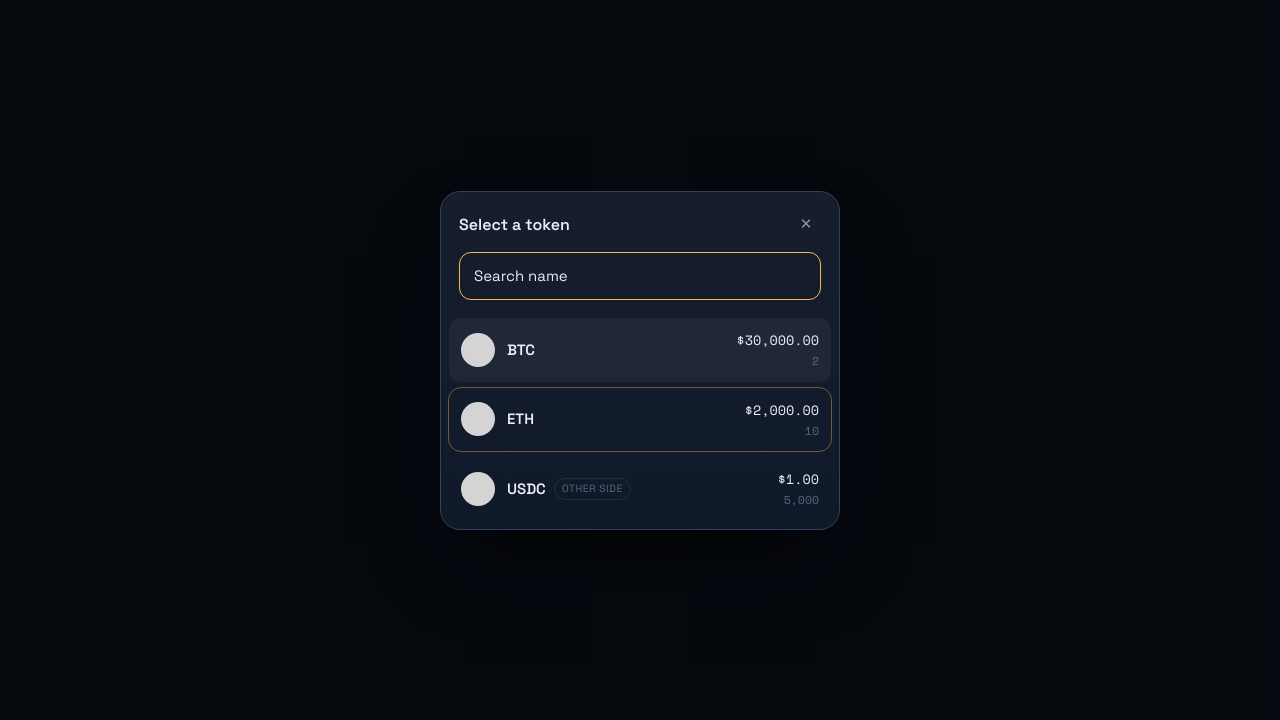
Test: TokenSelectDialog › shows an empty state when nothing matches
Step 1. Type "zzz" into the field with placeholder "Search name" → (640,276), box [459,252,821,300]
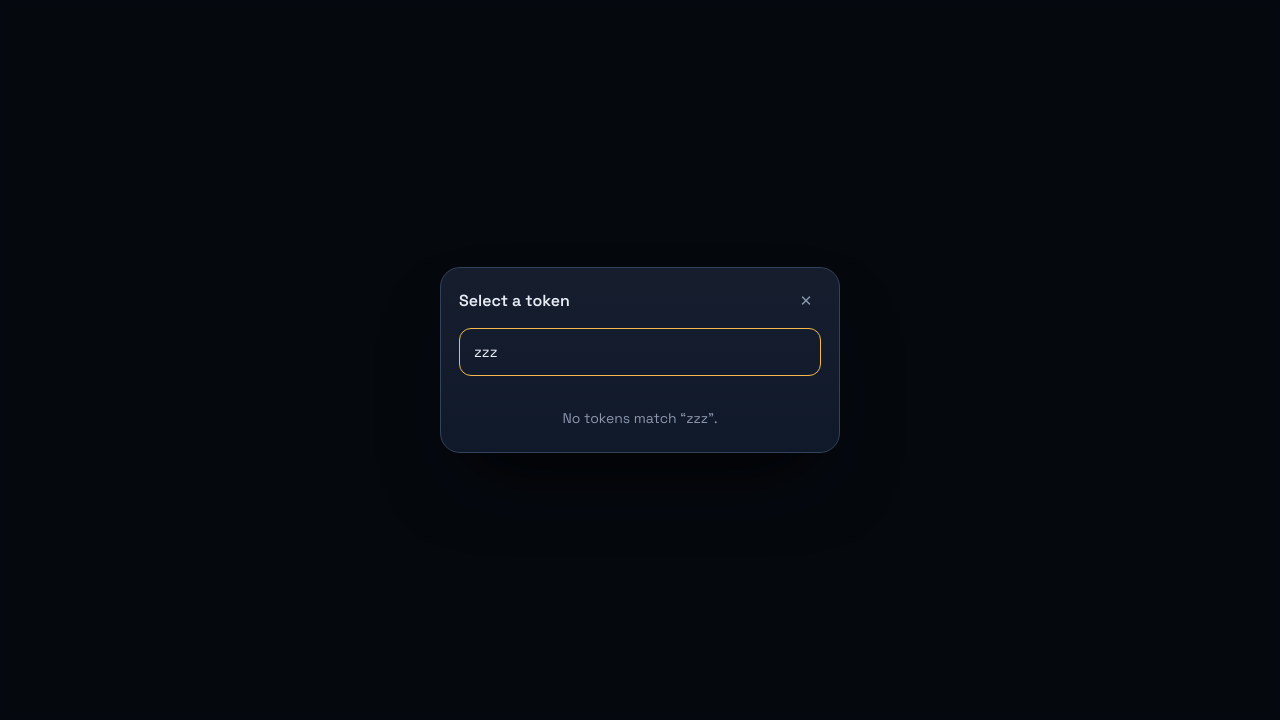
Result: the text "No tokens match “zzz”." is shown at [562,409,718,427]
